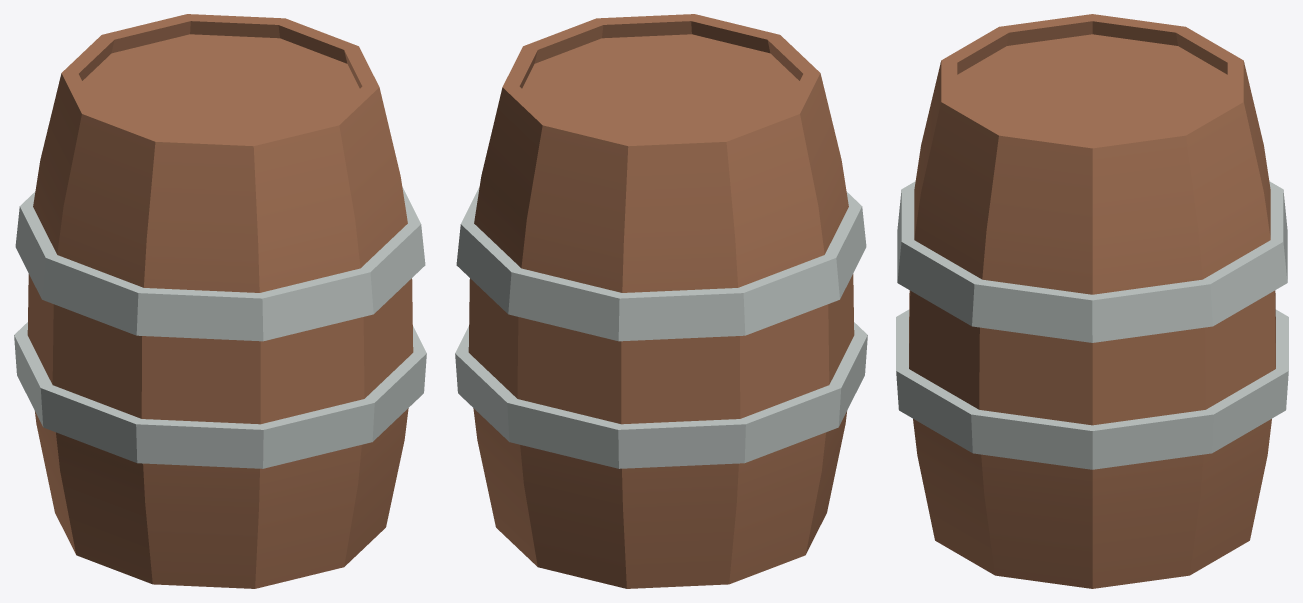
The model's file is F_Barrel_01.fbx.
3 renders of one model, left to right at view 1: azimuth 30°, elevation 25°; view 2: azimuth 150°, elevation 25°; view 3: azimuth 270°, elevation 25°, orthographic.
Visible parts, largest first — view 1: F_Barrel_01; view 2: F_Barrel_01; view 3: F_Barrel_01.
Part boxes in pixels (bbox=[...]): F_Barrel_01: bbox=[14, 14, 426, 588]; F_Barrel_01: bbox=[455, 14, 867, 588]; F_Barrel_01: bbox=[896, 14, 1288, 588].
Bounding box in the file's own units: 154 × 181 × 147.
